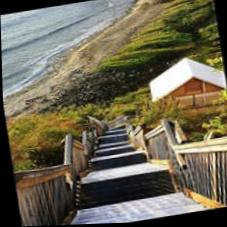Bench: (58, 114, 174, 206)
